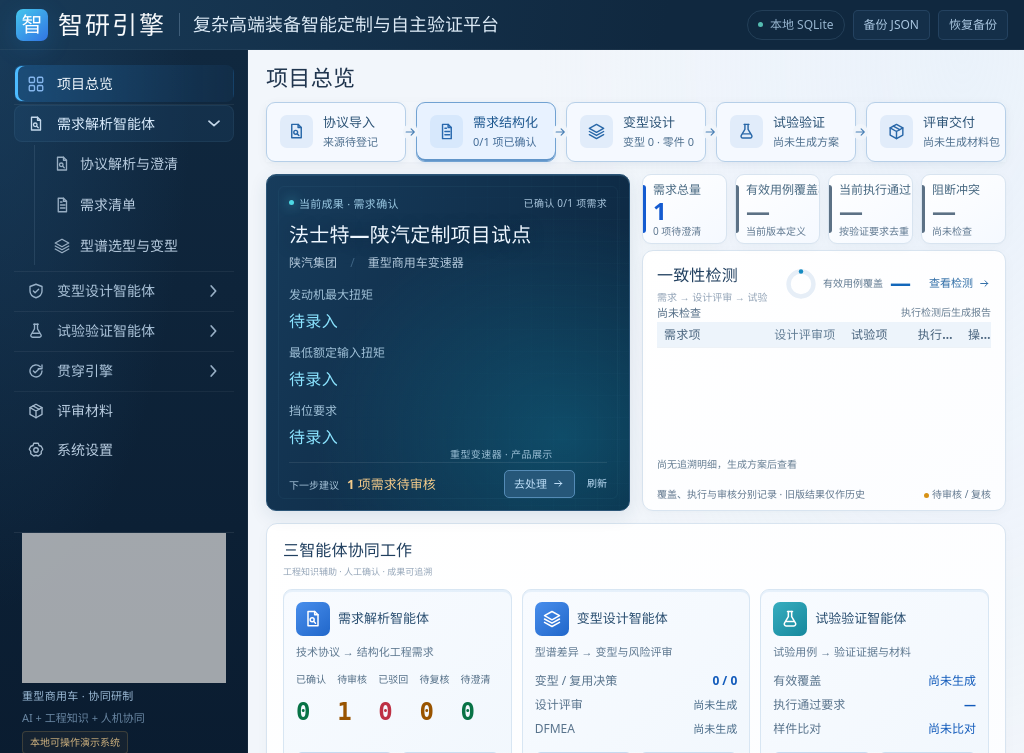
Test: requirement workbench › shows an empty requirement state for a project without requirements
Click the tab "需求清单" at coordinates (139, 205), box 44,186 -> 234,224
(page scrolled)
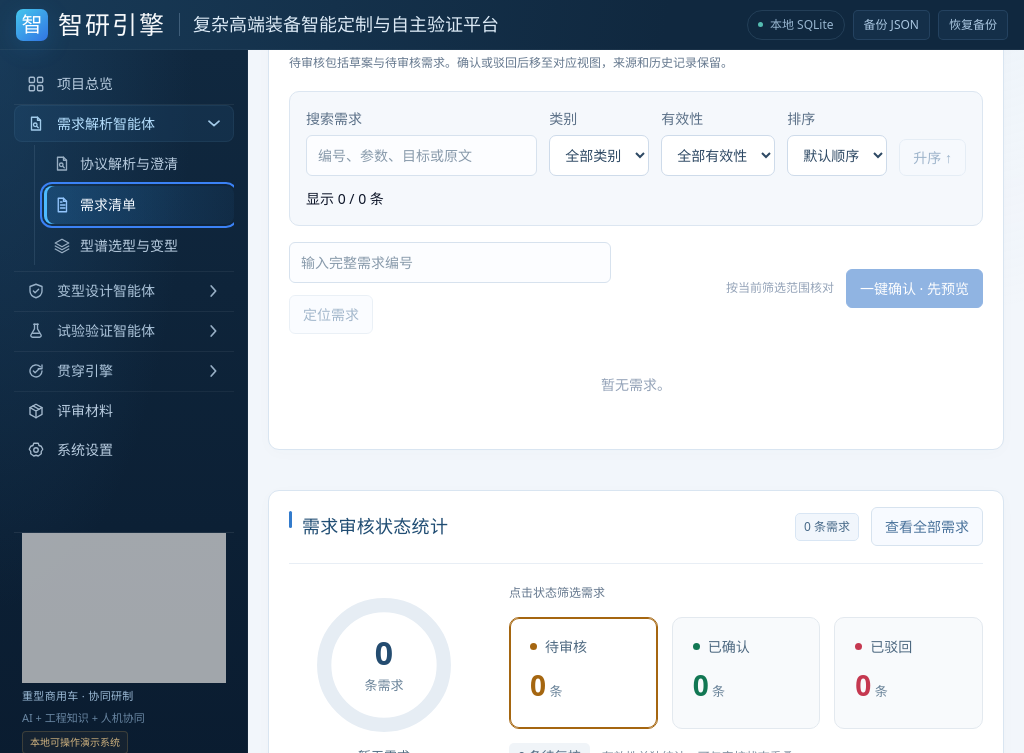
Check: the text "暂无需求。" is shown, box 601,375 -> 671,394
